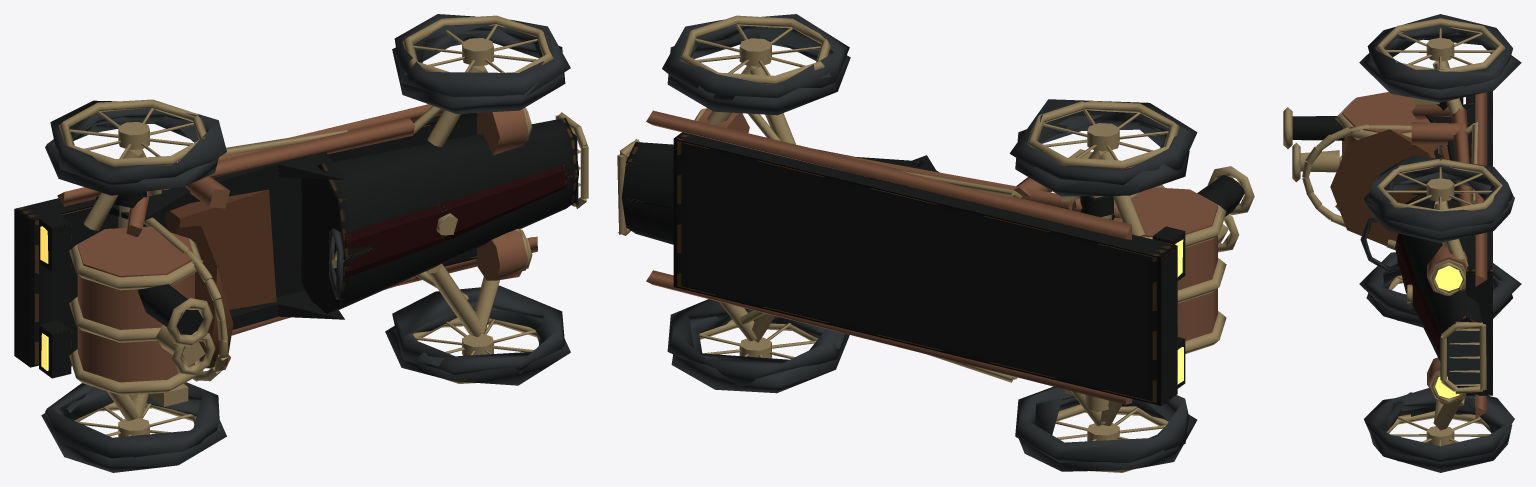
Rendered from kart-low.glb.
3 renders of one model, left to right at view 1: azimuth 30°, elevation 25°; view 2: azimuth 150°, elevation 25°; view 3: azimuth 270°, elevation 25°, orthographic. The views are drawn at different scales.
Parts seen in each view (by area): view 1: kart-root.001 / Riveted iron.001, kart-root.001 / Copper feed lines.001, kart-root.001 / Machined brass.001, Wheel 0 1.001 / Tire rubber.001, Wheel 0 -1.001 / Tire rubber.001, kart-root.001 / Quilted leather.001, Wheel 1 -1.001 / Tire rubber.001, Wheel 1 1.001 / Tire rubber.001, kart-root.001 / Burgundy enamel.001, Wheel 1 1.001 / Machined brass.001, Wheel 0 1.001 / Machined brass.001, Wheel 0 -1.001 / Machined brass.001 (+2 smaller); view 2: kart-root.001 / Riveted iron.001, kart-root.001 / Copper feed lines.001, kart-root.001 / Machined brass.001, Wheel 0 1.001 / Tire rubber.001, Wheel 1 1.001 / Tire rubber.001, Wheel 0 -1.001 / Tire rubber.001, Wheel 1 -1.001 / Tire rubber.001, Wheel 1 1.001 / Machined brass.001, Wheel 0 1.001 / Machined brass.001, Wheel 1 -1.001 / Machined brass.001, Wheel 0 -1.001 / Machined brass.001; view 3: kart-root.001 / Riveted iron.001, kart-root.001 / Machined brass.001, kart-root.001 / Copper feed lines.001, Wheel 1 1.001 / Tire rubber.001, Wheel 0 1.001 / Tire rubber.001, Wheel 0 -1.001 / Tire rubber.001, kart-root.001 / Quilted leather.001, Wheel 0 1.001 / Machined brass.001, Wheel 1 -1.001 / Tire rubber.001, Wheel 1 1.001 / Machined brass.001, kart-root.001 / Tire rubber.001, Wheel 0 -1.001 / Machined brass.001 (+2 smaller).
Boxes of the visible parts, <box> form: kart-root.001 / Riveted iron.001: <box>14,113,578,378</box>; kart-root.001 / Copper feed lines.001: <box>57,104,537,395</box>; kart-root.001 / Machined brass.001: <box>69,65,588,421</box>; Wheel 0 1.001 / Tire rubber.001: <box>392,14,570,113</box>; Wheel 0 -1.001 / Tire rubber.001: <box>385,285,570,385</box>; kart-root.001 / Quilted leather.001: <box>165,189,276,368</box>; Wheel 1 -1.001 / Tire rubber.001: <box>41,382,226,472</box>; Wheel 1 1.001 / Tire rubber.001: <box>45,100,226,195</box>; kart-root.001 / Burgundy enamel.001: <box>344,164,566,278</box>; Wheel 1 1.001 / Machined brass.001: <box>58,99,206,167</box>; Wheel 0 1.001 / Machined brass.001: <box>402,15,553,72</box>; Wheel 0 -1.001 / Machined brass.001: <box>413,317,539,383</box>; kart-root.001 / Riveted iron.001: <box>621,132,1244,405</box>; kart-root.001 / Copper feed lines.001: <box>646,108,1217,404</box>; kart-root.001 / Machined brass.001: <box>617,66,1254,426</box>; Wheel 0 1.001 / Tire rubber.001: <box>662,14,850,115</box>; Wheel 1 1.001 / Tire rubber.001: <box>1009,99,1197,196</box>; Wheel 0 -1.001 / Tire rubber.001: <box>667,299,849,393</box>; Wheel 1 -1.001 / Tire rubber.001: <box>1015,386,1197,471</box>; Wheel 1 1.001 / Machined brass.001: <box>1027,100,1179,169</box>; Wheel 0 1.001 / Machined brass.001: <box>679,15,830,84</box>; Wheel 1 -1.001 / Machined brass.001: <box>1055,404,1168,472</box>; Wheel 0 -1.001 / Machined brass.001: <box>699,319,817,358</box>; kart-root.001 / Riveted iron.001: <box>1292,90,1492,395</box>; kart-root.001 / Machined brass.001: <box>1283,60,1486,430</box>; kart-root.001 / Copper feed lines.001: <box>1342,92,1487,418</box>; Wheel 1 1.001 / Tire rubber.001: <box>1359,14,1521,102</box>; Wheel 0 1.001 / Tire rubber.001: <box>1364,155,1514,242</box>; Wheel 0 -1.001 / Tire rubber.001: <box>1364,388,1514,472</box>; kart-root.001 / Quilted leather.001: <box>1330,129,1449,246</box>; Wheel 0 1.001 / Machined brass.001: <box>1377,158,1502,211</box>; Wheel 1 -1.001 / Tire rubber.001: <box>1359,252,1521,327</box>; Wheel 1 1.001 / Machined brass.001: <box>1375,18,1505,71</box>; kart-root.001 / Tire rubber.001: <box>1360,218,1480,384</box>; Wheel 0 -1.001 / Machined brass.001: <box>1386,411,1490,461</box>.
Size of the model in its own units: 1.52 by 0.836 by 0.6886.
7 materials, 2 textured.
